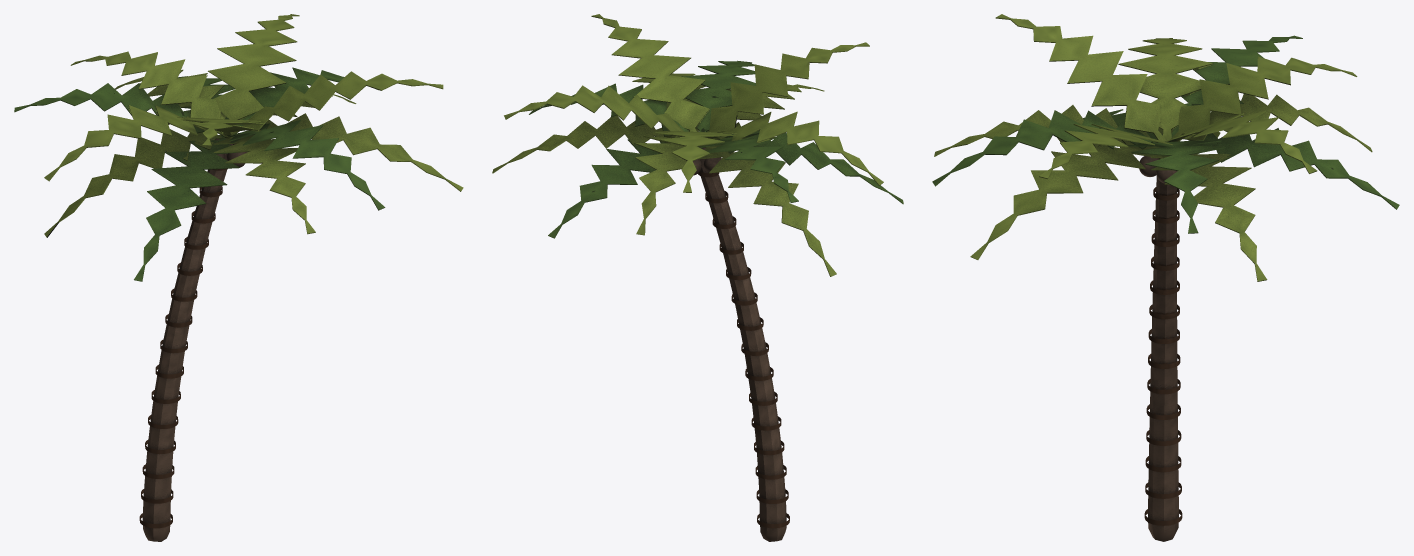
The model's file is costa_coqueiro_b.glb.
3 renders of one model, left to right at view 1: azimuth 30°, elevation 25°; view 2: azimuth 150°, elevation 25°; view 3: azimuth 270°, elevation 25°, orthographic. The views are drawn at different scales.
Visible parts, largest first — view 1: costa_coqueiro_b; view 2: costa_coqueiro_b; view 3: costa_coqueiro_b.
Boxes of the visible parts, left/top/right/bottom form: costa_coqueiro_b: left=14, top=14, right=463, bottom=541; costa_coqueiro_b: left=492, top=14, right=903, bottom=541; costa_coqueiro_b: left=932, top=14, right=1399, bottom=541.
Bounding box in the file's own units: 5.23 × 6.48 × 5.36.
1 material, 1 textured.
